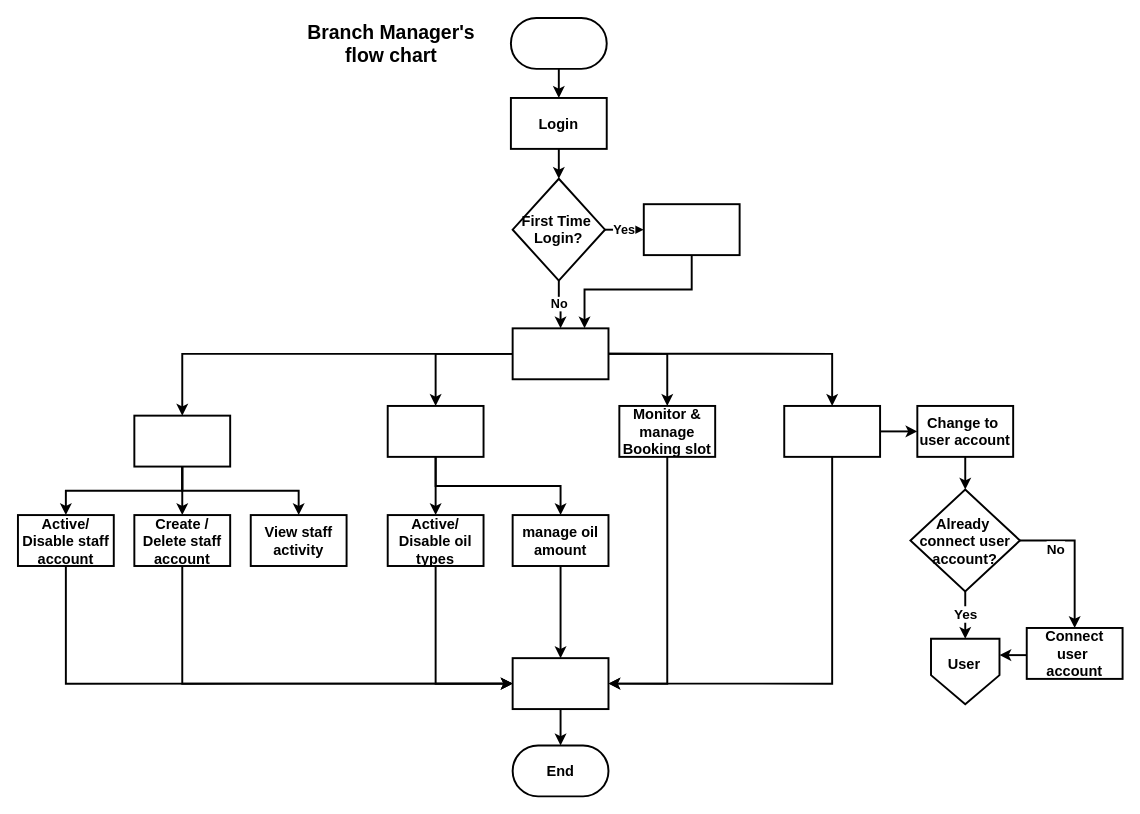
This 1140x814 diagram has some shape labels left out. Here are the shapes that lost their labels. From the top down, the box of each, then its label:
(509, 16, 607, 69): Start
(642, 203, 740, 256): Change password
(511, 327, 609, 380): Dashboard
(133, 414, 231, 467): Manage Staff
(386, 404, 484, 457): Manage Oil
(783, 404, 881, 457): Edit Profile
(511, 657, 609, 710): Logout
